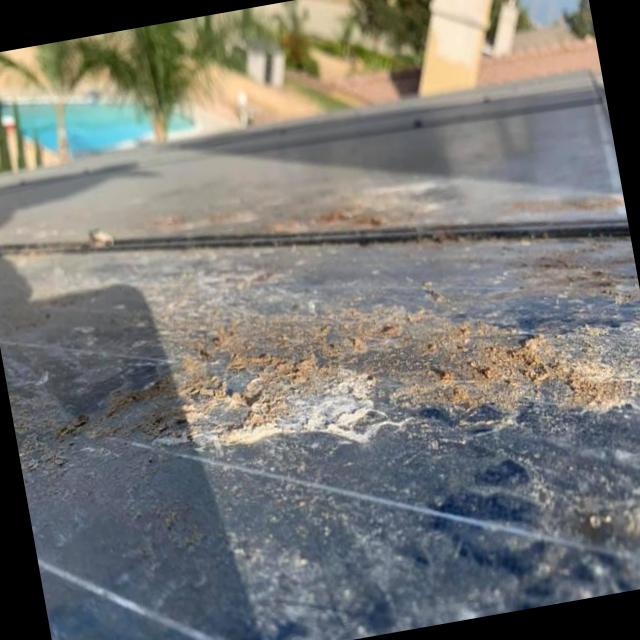faulty: (0, 244, 640, 640), (0, 98, 623, 250)
